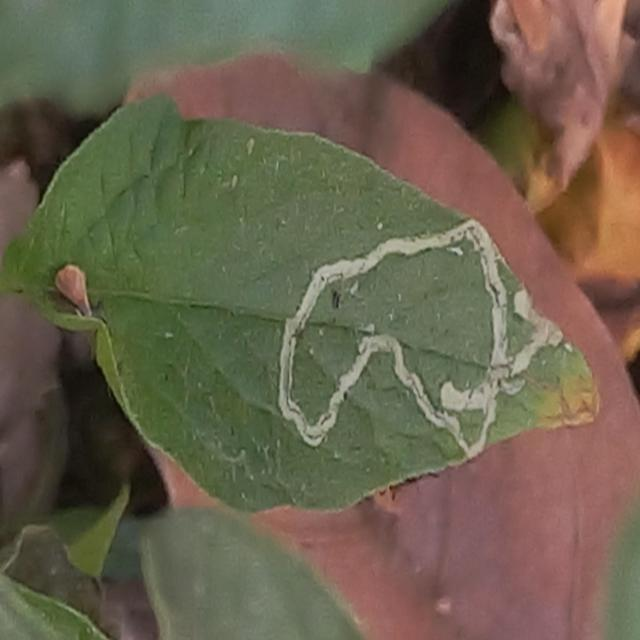Tuta absoluta: (273, 204, 572, 466)
